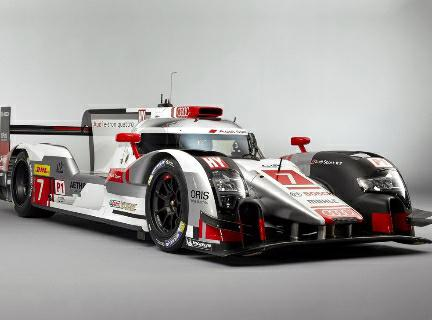奥迪-R18: (2, 91, 430, 269)
